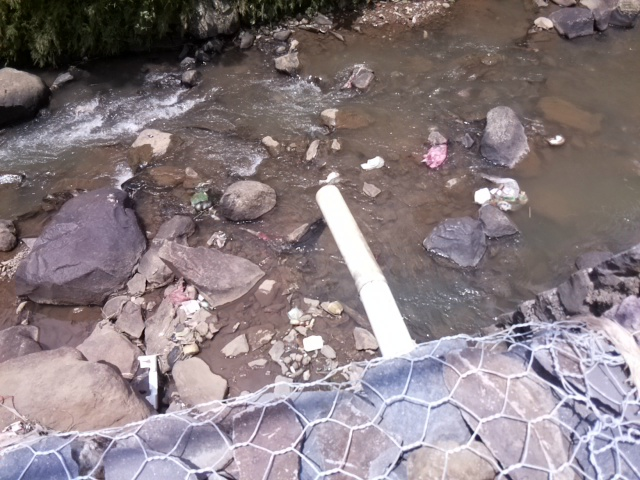Sampah_Plastik: (493, 174, 529, 214), (420, 140, 450, 169), (165, 279, 190, 305)
Sampah_Styrofoam: (300, 334, 325, 353), (358, 157, 386, 170), (473, 188, 491, 204)
